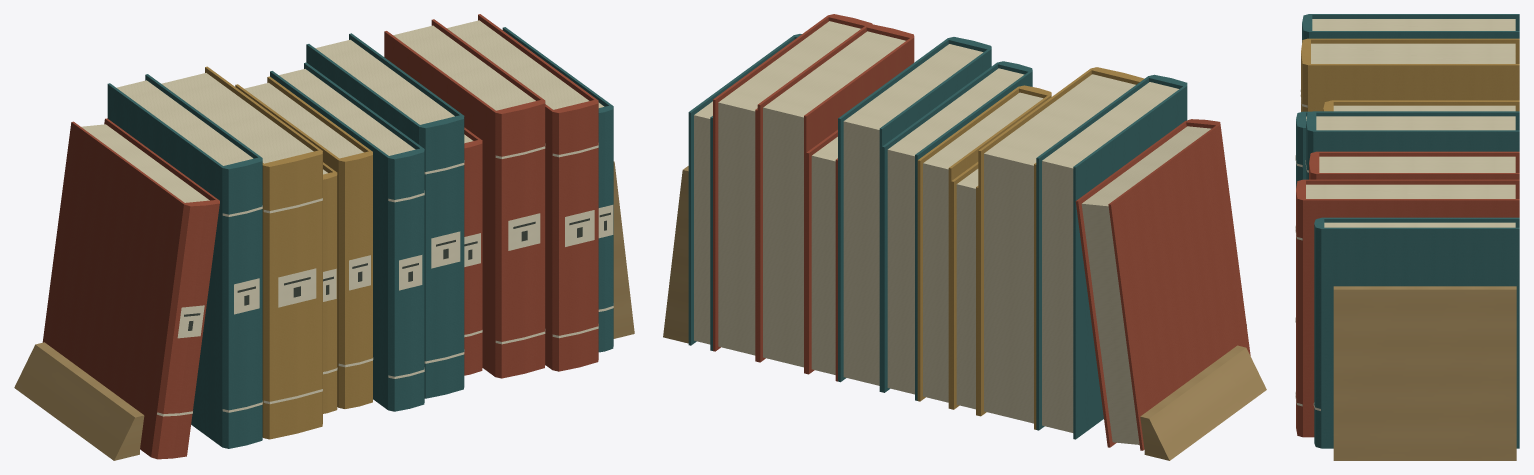
File: AST-LIB-006_reordered.glb
The picture shows the model from 3 angles, left to right: view 1: azimuth 30°, elevation 25°; view 2: azimuth 150°, elevation 25°; view 3: azimuth 270°, elevation 25°; orthographic projection. The views are drawn at different scales.
Parts seen in each view (by area): view 1: AST-LIB-006_reordered_static_visual; view 2: AST-LIB-006_reordered_static_visual; view 3: AST-LIB-006_reordered_static_visual.
Boxes of the visible parts, left/top/right/bottom form: AST-LIB-006_reordered_static_visual: left=14, top=14, right=634, bottom=460; AST-LIB-006_reordered_static_visual: left=663, top=14, right=1266, bottom=460; AST-LIB-006_reordered_static_visual: left=1295, top=14, right=1519, bottom=460.
Size of the model in its own units: 0.5419 by 0.278 by 0.2207.
Materials: 7 (7 with a texture image).
